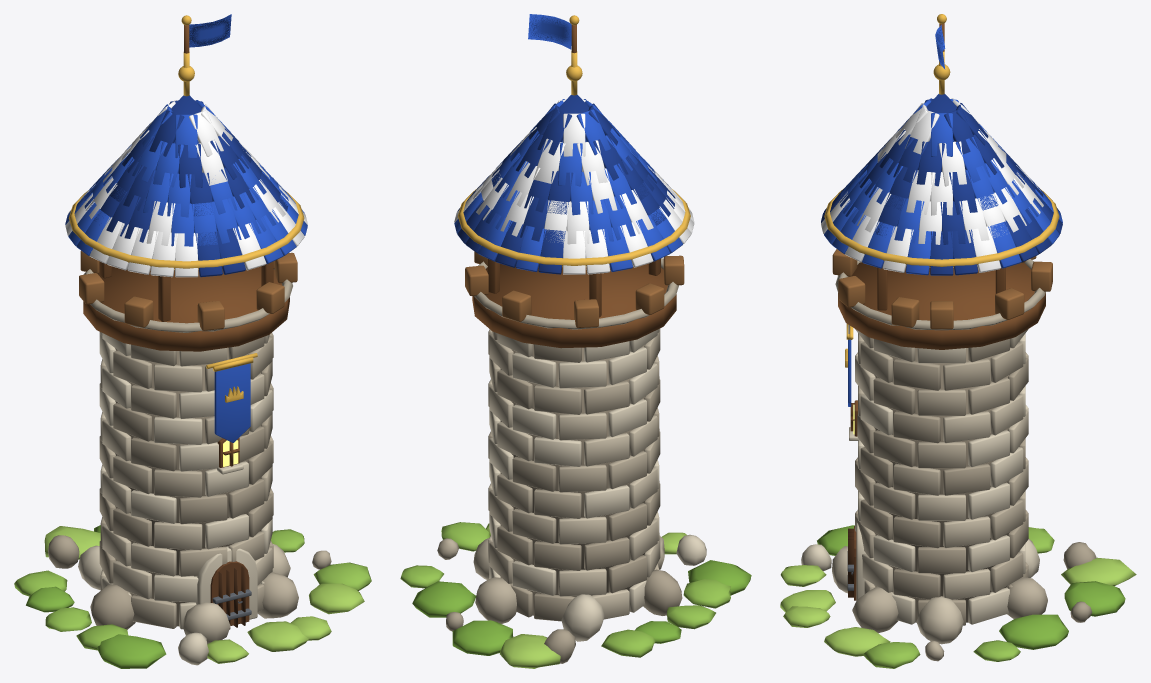
Rendered from b_tower.glb.
The picture shows the model from 3 angles, left to right: view 1: azimuth 30°, elevation 25°; view 2: azimuth 150°, elevation 25°; view 3: azimuth 270°, elevation 25°; orthographic projection.
Parts seen in each view (by area): view 1: root_team, root_matte#d6ccb6, root_matte#b8ad98, root_matte#a99e8a, root_matte#7a4e2a, root_matte#c9bea8, root_team_dark, root_team_light, root_matte#a8d060, root_matte#94c252, root_matte#9a6a3c, root_gold#f0bd4c (+4 smaller); view 2: root_matte#d6ccb6, root_matte#b8ad98, root_matte#a99e8a, root_matte#c9bea8, root_team, root_matte#7a4e2a, root_team_light, root_team_dark, root_matte#7fb243, root_matte#94c252, root_matte#9a6a3c, root_gold#f0bd4c (+2 smaller); view 3: root_matte#b8ad98, root_matte#a99e8a, root_matte#d6ccb6, root_matte#c9bea8, root_matte#7a4e2a, root_team_dark, root_team_light, root_team, root_matte#a8d060, root_matte#9a6a3c, root_matte#7fb243, root_gold#f0bd4c (+2 smaller).
Part boxes in pixels (x1,y1,x2,y2): root_team: (65,14,307,442); root_matte#d6ccb6: (78,332,272,665); root_matte#b8ad98: (83,268,331,628); root_matte#a99e8a: (48,333,273,629); root_matte#7a4e2a: (83,25,289,467); root_matte#c9bea8: (100,335,290,643); root_team_dark: (94,95,287,277); root_team_light: (65,100,307,277); root_matte#a8d060: (44,526,364,663); root_matte#94c252: (14,529,371,650); root_matte#9a6a3c: (79,250,297,330); root_gold#f0bd4c: (68,15,304,402); root_matte#d6ccb6: (489,330,706,641); root_matte#b8ad98: (437,258,678,623); root_matte#a99e8a: (446,331,682,663); root_matte#c9bea8: (473,333,664,619); root_team: (454,14,682,272); root_matte#7a4e2a: (472,24,676,348); root_team_light: (454,99,694,274); root_team_dark: (457,95,675,274); root_matte#7fb243: (412,560,751,655); root_matte#94c252: (400,522,730,657); root_matte#9a6a3c: (465,251,684,327); root_gold#f0bd4c: (457,15,690,267); root_matte#b8ad98: (835,259,1047,661); root_matte#a99e8a: (855,339,1096,625); root_matte#d6ccb6: (801,333,1039,624); root_matte#c9bea8: (832,329,1028,644); root_matte#7a4e2a: (838,23,1045,436); root_team_dark: (821,94,1062,275); root_team_light: (821,98,1043,272); root_team: (824,25,1062,406); root_matte#a8d060: (780,557,1136,656); root_matte#9a6a3c: (832,249,1052,329); root_matte#7fb243: (817,525,1125,649); root_gold#f0bd4c: (824,14,1059,367).
Size of the model in its own units: 2.05 by 3.89 by 2.13.
